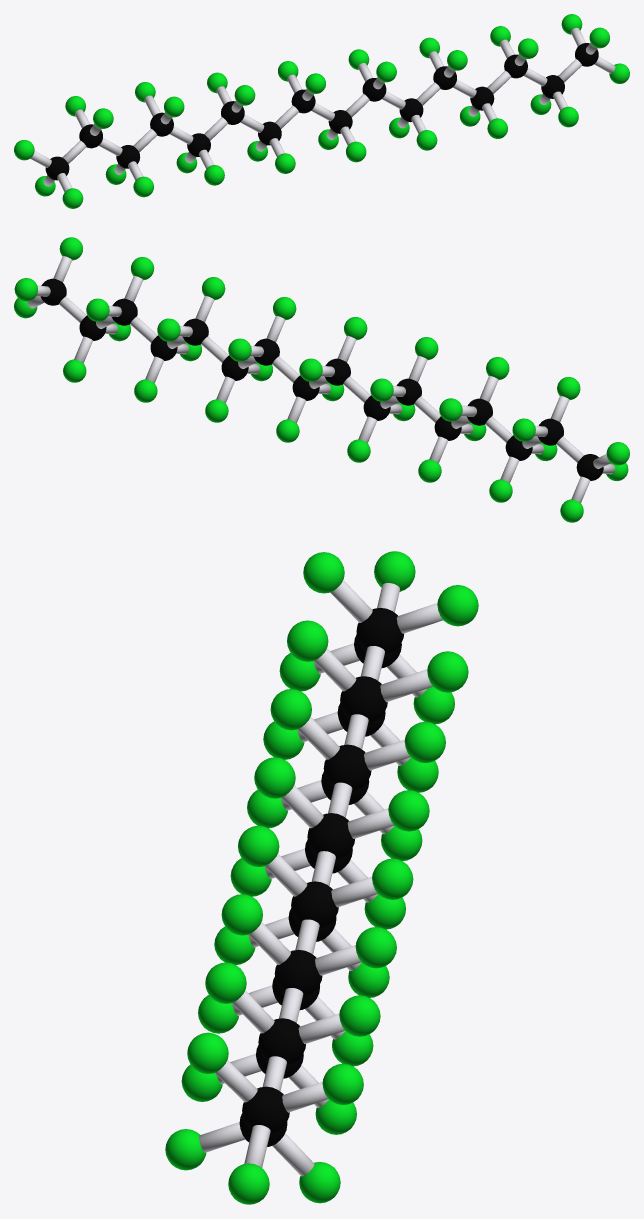
File: ptfe.glb
3 renders of one model, top to bottom at view 1: azimuth 30°, elevation 25°; view 2: azimuth 150°, elevation 25°; view 3: azimuth 270°, elevation 25°, orthographic. The views are drawn at different scales.
Visible parts, largest first — view 1: ptfe; view 2: ptfe; view 3: ptfe.
Part boxes in pixels (x1,y1,x2,y2): ptfe: (14,14,629,208); ptfe: (14,237,629,522); ptfe: (165,551,478,1204).
Bounding box in the file's own units: 217 × 39.75 × 51.03.
